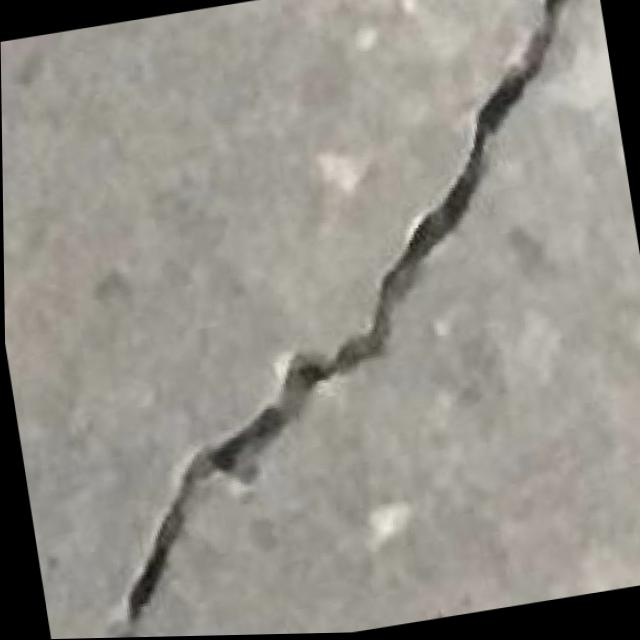Crack: (12, 0, 640, 640)
